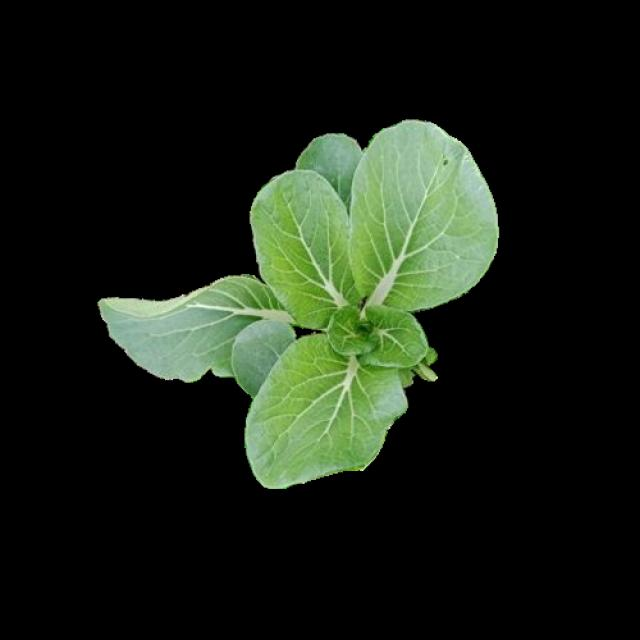healthy: (96, 120, 493, 487)
not-mature: (98, 123, 496, 489)
